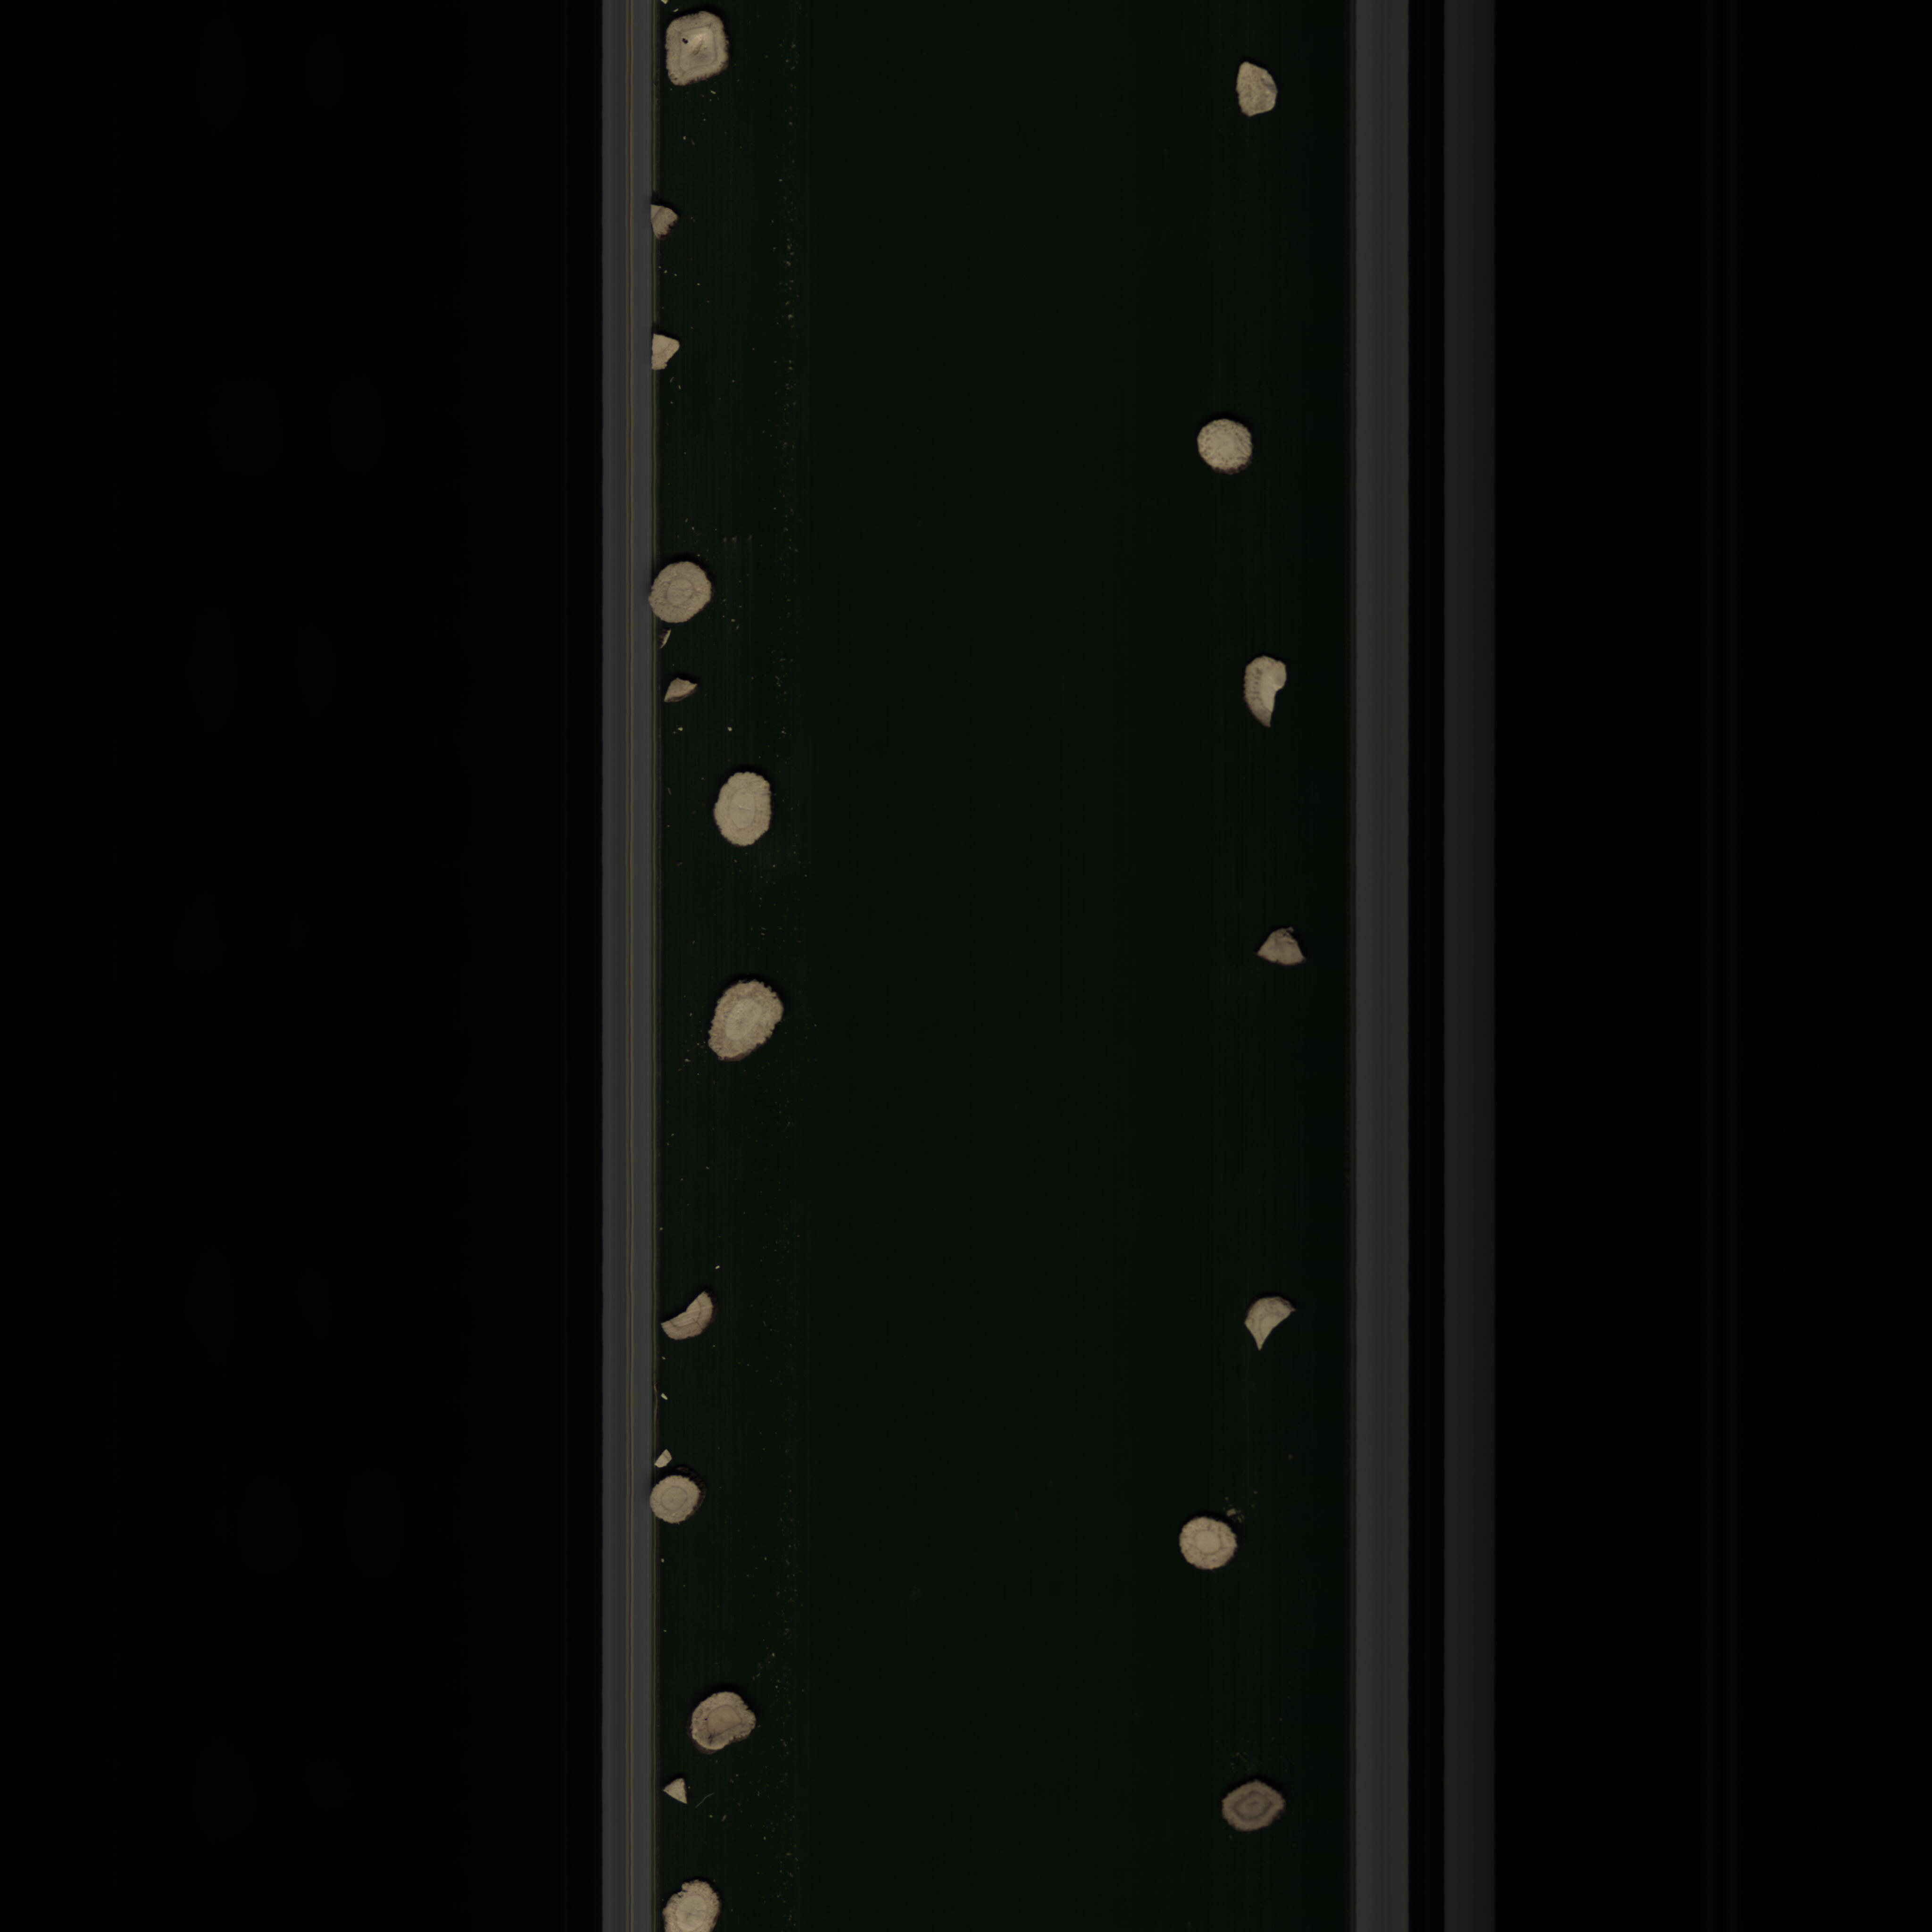debris: (1230, 1284, 1302, 1353), (1238, 637, 1292, 731), (1240, 909, 1318, 971), (1230, 55, 1279, 136), (656, 1292, 725, 1345), (644, 191, 686, 246), (648, 329, 697, 375), (662, 1764, 695, 1810), (663, 678, 715, 708)
hole: (665, 19, 736, 96)
